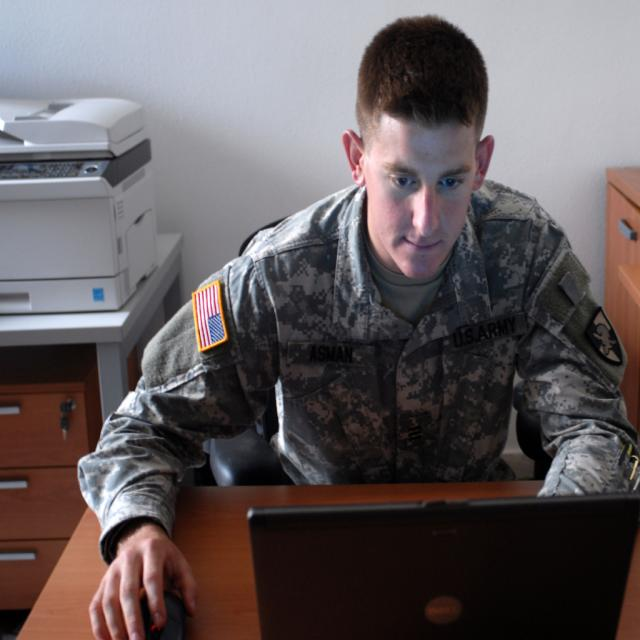desk: (17, 483, 637, 636)
laptop: (248, 493, 640, 636)
mouse: (135, 589, 186, 640)
person: (78, 13, 634, 484)
